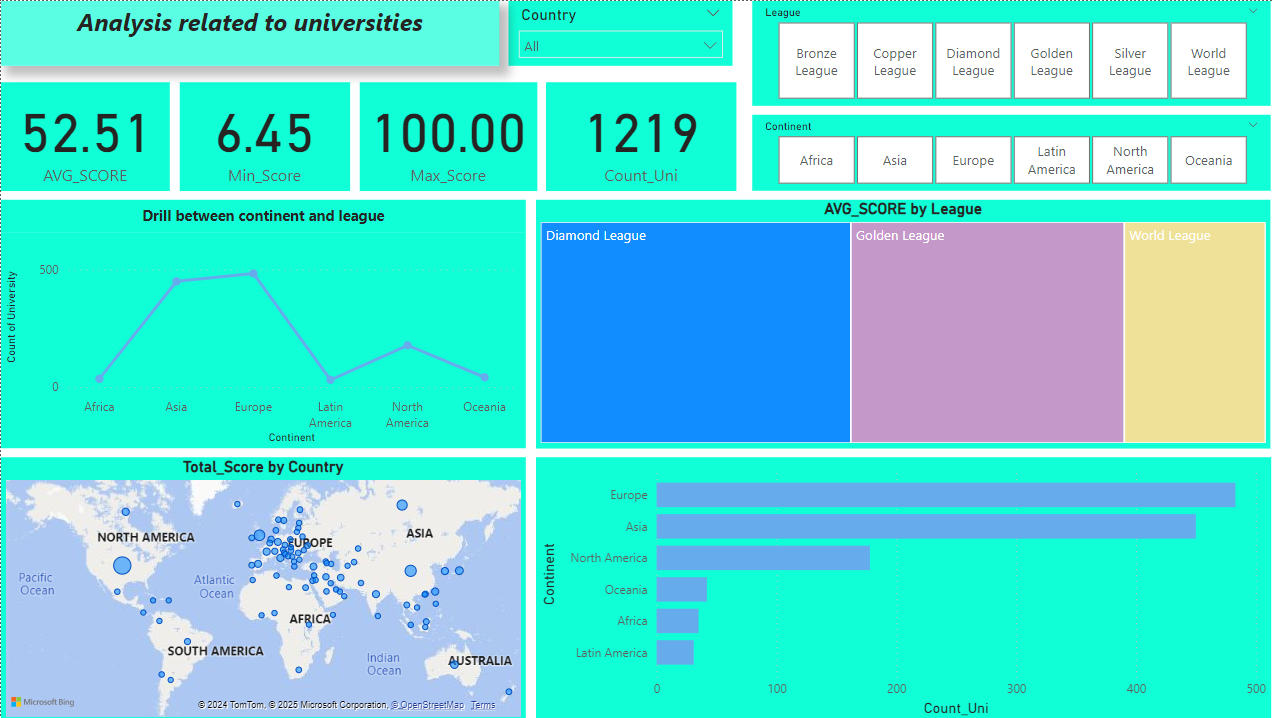

The page's visual inventory and layout, read from the dashboard file:
{"tool":"powerbi","page":{"name":"Page 1","canvas":[1280,720],"ordinal":0},"visuals":[{"type":"lineChart","fields":{"Category":["Table 1.State","Table 1.League"],"Y":["CountNonNull(Table 1.University)"]},"box":[0,231.6,524.6,215.9],"z":0},{"type":"map","title":"Total_Score by Country","fields":{"Category":["Table 1.Country"],"Size":["Sum(Table 1.Score)"]},"box":[0,455.9,524.6,264.1],"z":1000},{"type":"treemap","fields":{"Group":["Table 1.League"],"Values":["Measures .AVG_SCORE"]},"box":[535.5,199,734.5,248.4],"z":2000},{"type":"slicer","fields":{"Values":["Table 1.State"]},"box":[751.4,113.4,518.6,76],"z":3000},{"type":"slicer","fields":{"Values":["Table 1.Country"]},"box":[507.7,0,224.3,65.1],"z":4000},{"type":"slicer","fields":{"Values":["Table 1.League"]},"box":[751.4,0,518.6,104.9],"z":5000},{"type":"card","fields":{"Values":["Measures .AVG_SCORE"]},"box":[0,80.8,168.8,108.5],"z":6000},{"type":"card","fields":{"Values":["Measures .Min_Score"]},"box":[178.5,80.8,170.1,108.5],"z":7000},{"type":"card","fields":{"Values":["Measures .Max_Score"]},"box":[358.2,80.8,177.3,108.5],"z":8000},{"type":"card","fields":{"Values":["Measures .Count_Uni"]},"box":[545.1,80.8,190.6,108.5],"z":9000},{"type":"barChart","fields":{"Category":["Table 1.Continent"],"Y":["Measures .Count_Uni"]},"box":[535,456.2,735,263.8],"z":10000},{"type":"textbox","box":[0,0,498.1,65.1],"z":11000},{"type":"textbox","box":[0,199,524.6,32.6],"z":12000}]}

Visuals, with their boxes in screenshot pixels (x1, y1, x2, y2), scaled from the page's 1280x720 canvas onto the 1273x718 screenshot:
lineChart - Table 1.State x Table 1.League: 0:231:522:446
"Total_Score by Country" map: 0:455:522:717
treemap - Table 1.League x Measures .AVG_SCORE: 533:198:1263:446
slicer - Table 1.State: 747:113:1263:189
slicer - Table 1.Country: 505:0:728:65
slicer - Table 1.League: 747:0:1263:105
card - Measures .AVG_SCORE: 0:81:168:189
card - Measures .Min_Score: 178:81:347:189
card - Measures .Max_Score: 356:81:533:189
card - Measures .Count_Uni: 542:81:732:189
barChart - Table 1.Continent x Measures .Count_Uni: 532:455:1263:717
textbox: 0:0:495:65
textbox: 0:198:522:231
